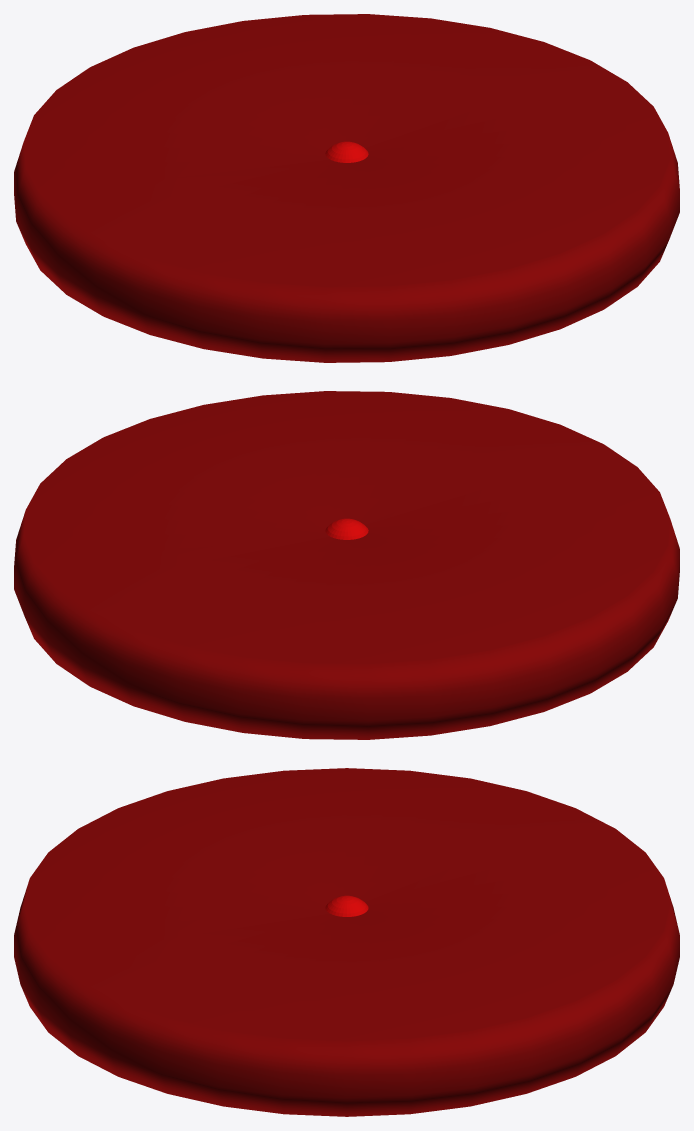
File: cushion.glb
3 renders of one model, top to bottom at view 1: azimuth 30°, elevation 25°; view 2: azimuth 150°, elevation 25°; view 3: azimuth 270°, elevation 25°, orthographic.
Visible parts, largest first — view 1: FloorCushion, CenterButton; view 2: FloorCushion, CenterButton; view 3: FloorCushion, CenterButton.
Part boxes in pixels (x1,y1,x2,y2): FloorCushion: [14, 14, 679, 362]; CenterButton: [325, 141, 368, 162]; FloorCushion: [14, 391, 679, 739]; CenterButton: [325, 518, 368, 539]; FloorCushion: [14, 768, 679, 1116]; CenterButton: [325, 895, 368, 916].
Size of the model in its own units: 1.19 by 0.1788 by 1.19.
